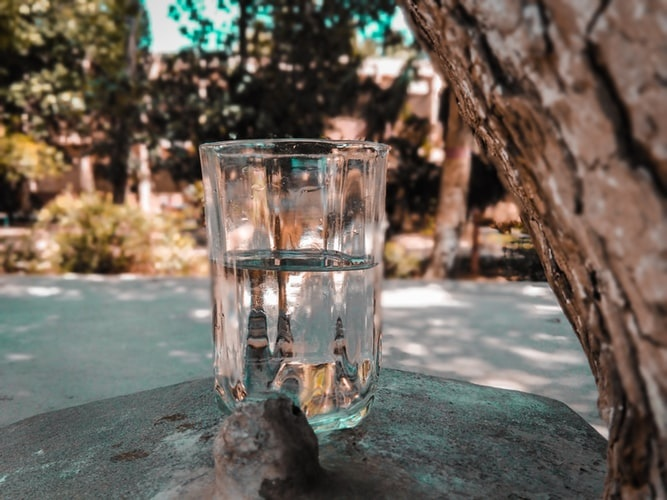whiskey: (201, 138, 396, 425)
